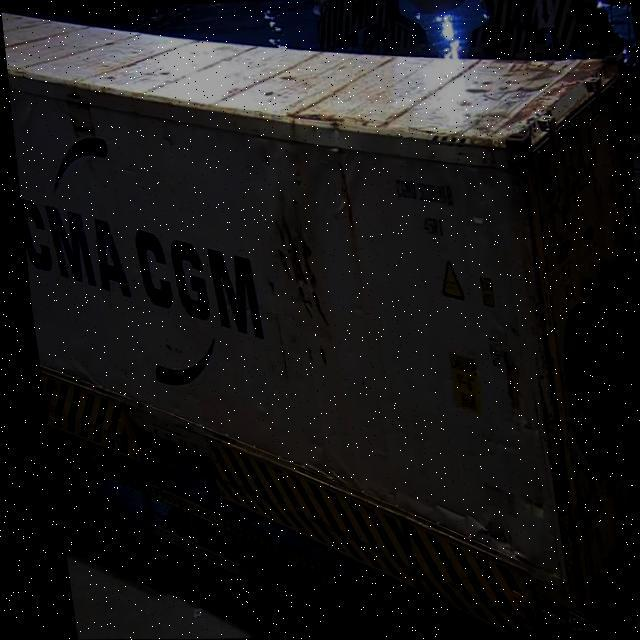rust: (487, 114, 591, 627)
